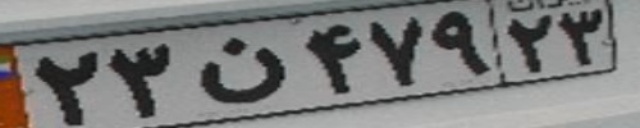2: (36, 50, 96, 125), (506, 12, 550, 72)
3: (109, 43, 176, 117), (560, 8, 602, 64)
4: (302, 23, 357, 93)
7: (366, 15, 425, 85)
9: (429, 9, 488, 74)
non: (196, 39, 286, 103)
